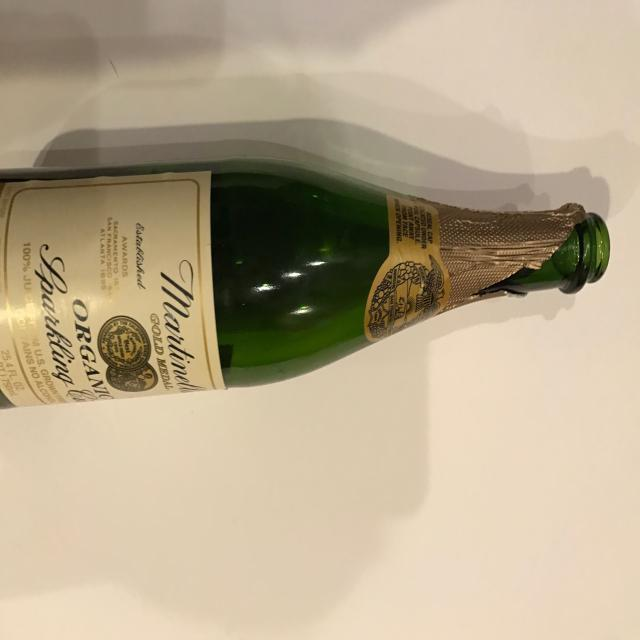glass: (1, 164, 612, 416)
